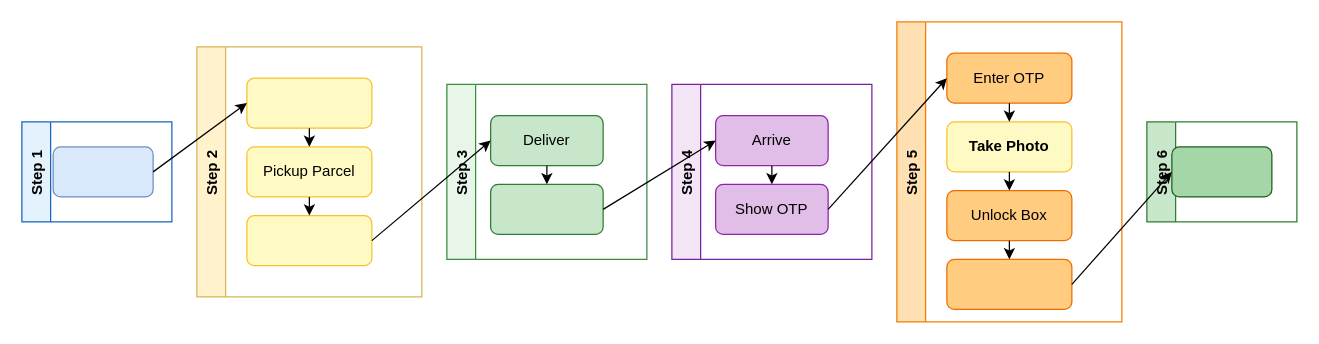
This 1319x344 diagram has some shape labels left out. The shapes that lost their labels are listed below. From the top down, each one's centre as x and y in pixels, then its label:
At pixel 309 102: "Assign Rider".
At pixel 102 171: "Order Placed".
At pixel 1221 171: "Done".
At pixel 546 208: "Track Location".
At pixel 309 240: "Lock Box".
At pixel 1009 283: "Give Parcel".
